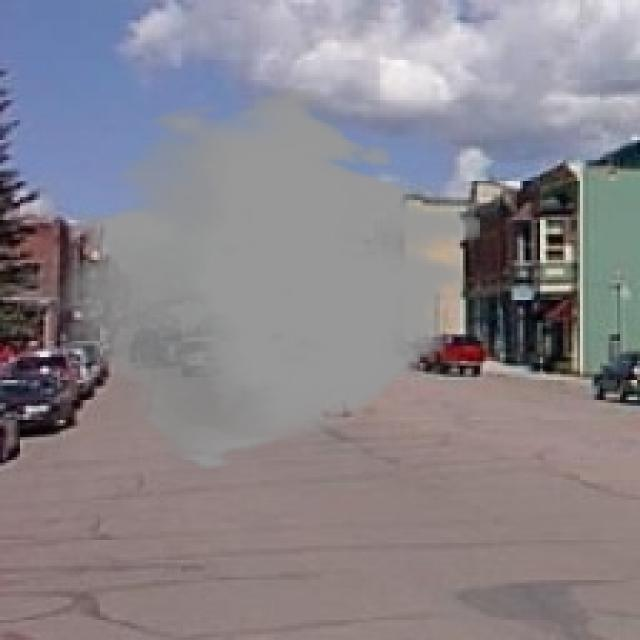Smoke: (57, 86, 480, 472)
